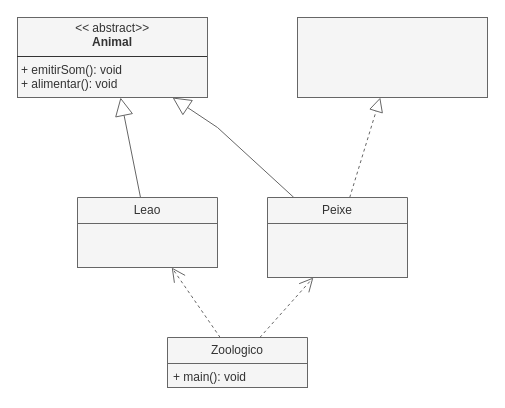
This 505x408 diagram has some shape labels left out. Here are the shapes that lost their labels. From the top down, the centre of each, then its label:
At pixel 392 57: "<< interface >> Aquatico + nadar(): void".
At pixel 147 245: "+ emitirSom(): void + alimentar(): void".
At pixel 337 250: "+ emitirSom(): void + alimentar(): void + nadar(): void".
